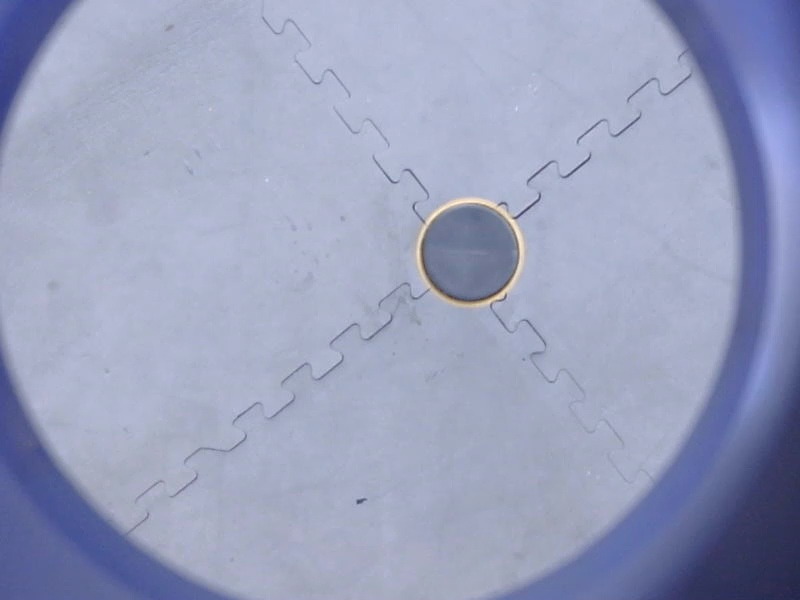tip: (411, 193, 533, 314)
